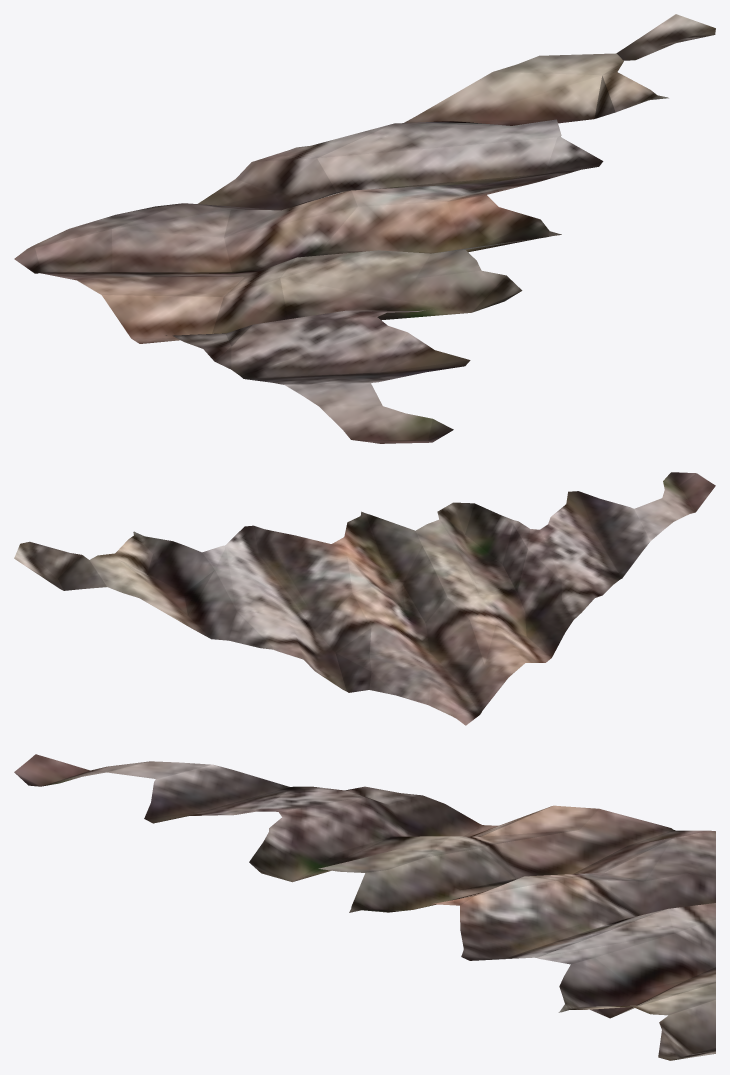
The picture shows the model from 3 angles, top to bottom: view 1: azimuth 30°, elevation 25°; view 2: azimuth 150°, elevation 25°; view 3: azimuth 270°, elevation 25°; orthographic projection. The views are drawn at different scales.
Bounding box in the file's own units: 0.9985 × 0.1176 × 0.9659.
Materials: 1 (1 with a texture image).
